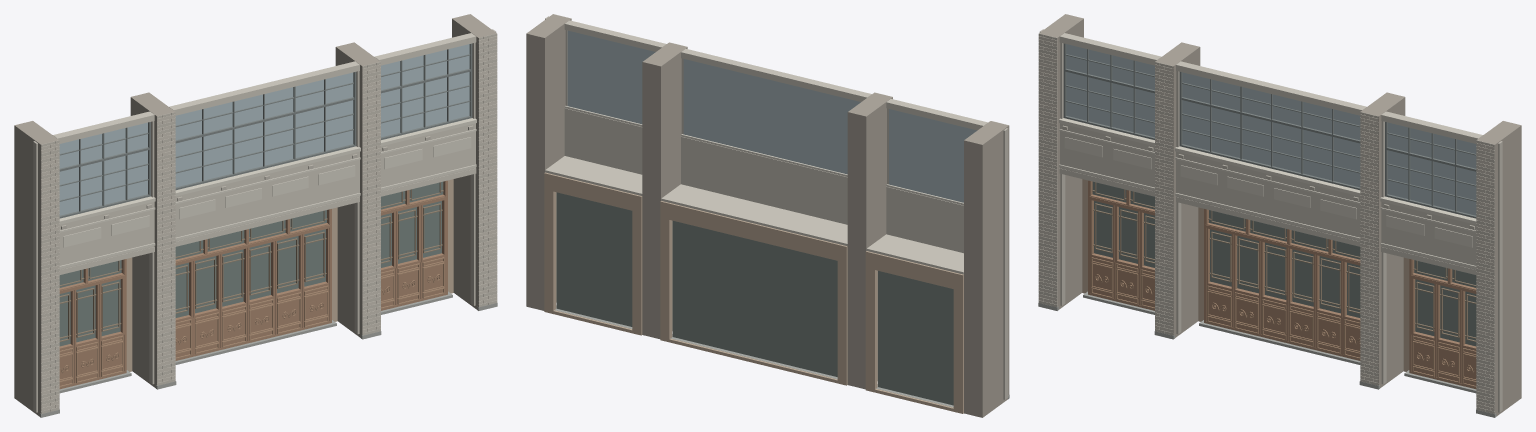
Rendered from jingan-yan-tongchun-residence-street-front-lod.glb.
3 renders of one model, left to right at view 1: azimuth 30°, elevation 25°; view 2: azimuth 150°, elevation 25°; view 3: azimuth 330°, elevation 25°, orthographic.
Visible parts, largest first — view 1: 延安中路816号严同春宅东宅街面; view 2: 延安中路816号严同春宅东宅街面; view 3: 延安中路816号严同春宅东宅街面.
Boxes of the visible parts, <box> form: 延安中路816号严同春宅东宅街面: <box>14,14,497,417</box>; 延安中路816号严同春宅东宅街面: <box>526,14,1009,417</box>; 延安中路816号严同春宅东宅街面: <box>1038,14,1521,417</box>.
Bounding box in the file's own units: 11.92 × 6.76 × 1.25.
